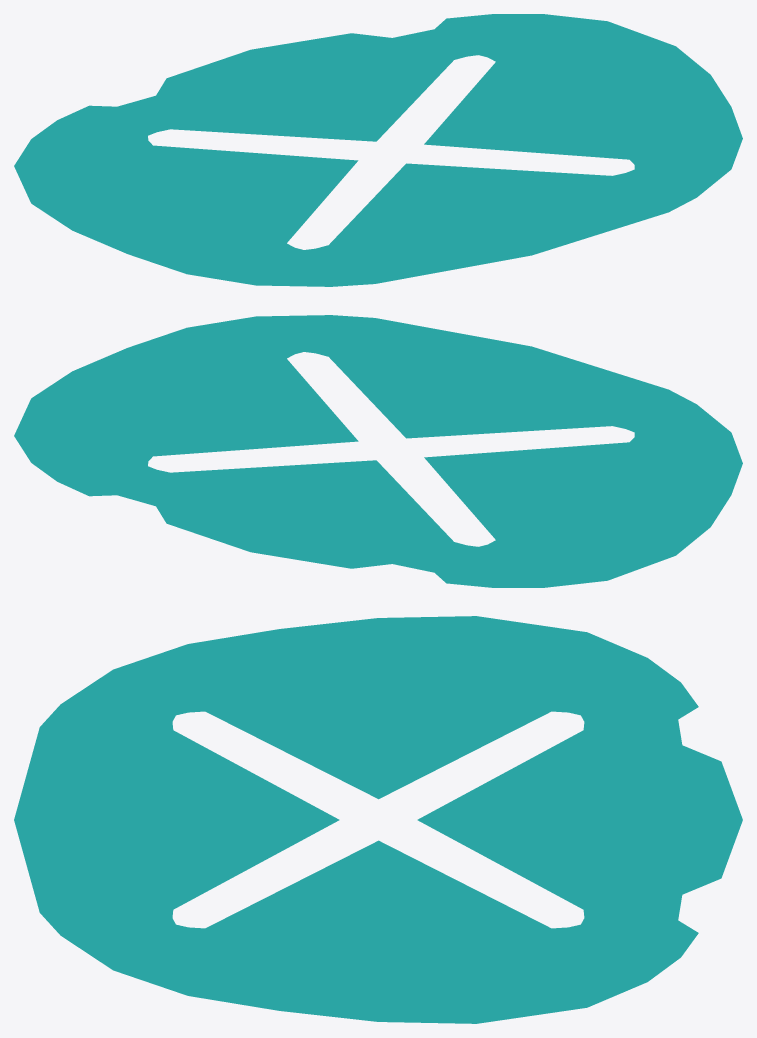
Rendered from crab_color_10.fbx.
The picture shows the model from 3 angles, top to bottom: view 1: azimuth 30°, elevation 25°; view 2: azimuth 150°, elevation 25°; view 3: azimuth 270°, elevation 25°; orthographic projection. The views are drawn at different scales.
Parts seen in each view (by area): view 1: crab_color_10; view 2: crab_color_10; view 3: crab_color_10.
Part boxes in pixels (x1=…): crab_color_10: x1=14, y1=14, x2=742, y2=286; crab_color_10: x1=14, y1=315, x2=742, y2=587; crab_color_10: x1=14, y1=616, x2=742, y2=1023.
Size of the model in its own units: 55 by 0 by 41.55.
